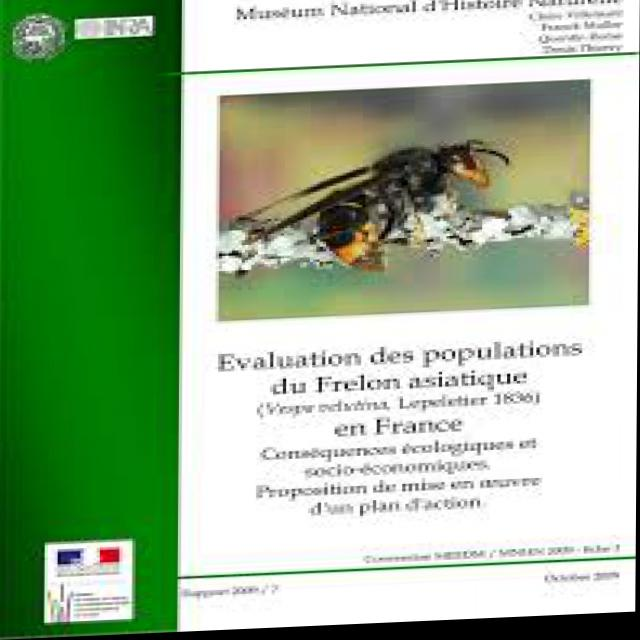Vespa Velutina: (223, 139, 519, 321)
